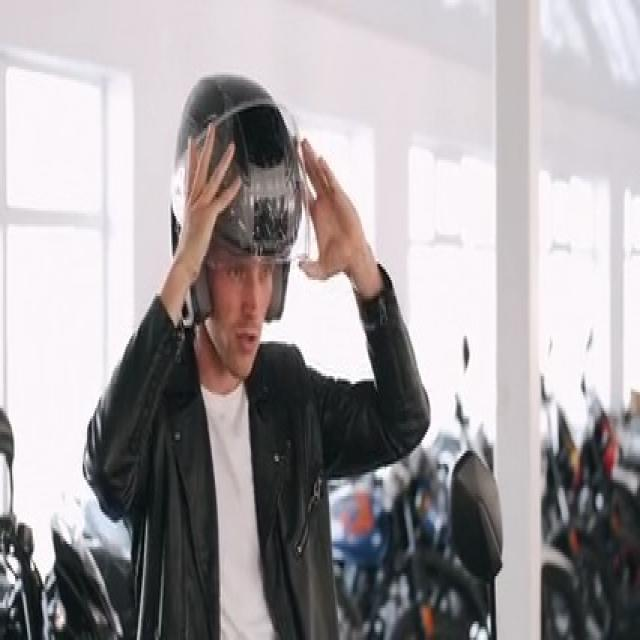Helmet_Wearer: (157, 64, 310, 368)
Jacket_Wearer: (78, 249, 430, 640)
Person: (77, 53, 428, 640)
